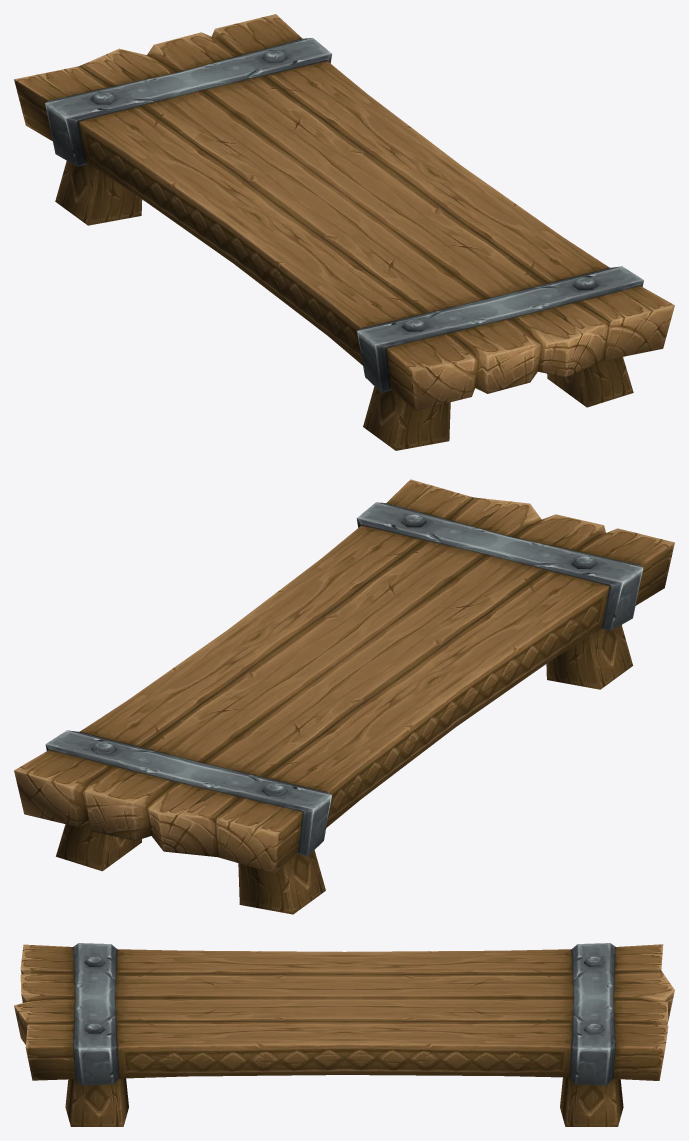
The picture shows the model from 3 angles, top to bottom: view 1: azimuth 30°, elevation 25°; view 2: azimuth 150°, elevation 25°; view 3: azimuth 270°, elevation 25°; orthographic projection. The views are drawn at different scales.
Bounding box in the file's own units: 2.33 × 0.9029 × 6.19.
Materials: 1 (1 with a texture image).
